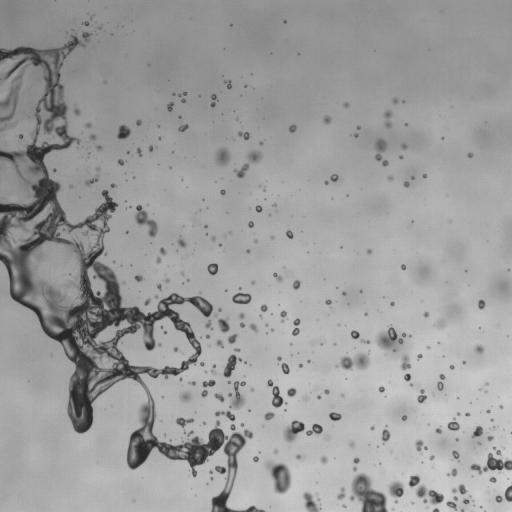droplet: (350, 473, 388, 511), (470, 447, 511, 473), (265, 461, 291, 494), (375, 326, 405, 349), (283, 420, 305, 442), (302, 492, 321, 511), (388, 481, 404, 502), (232, 287, 251, 304), (495, 483, 511, 502), (214, 148, 229, 166), (117, 125, 130, 139), (306, 424, 322, 435), (400, 355, 411, 370), (218, 318, 229, 332), (446, 496, 457, 510), (451, 484, 466, 494), (447, 418, 459, 430), (417, 389, 427, 403), (381, 427, 390, 442), (415, 440, 427, 451), (179, 391, 190, 402), (207, 263, 217, 275), (472, 426, 482, 437), (329, 412, 341, 421), (337, 487, 345, 499), (214, 393, 224, 402), (281, 363, 289, 374), (436, 319, 445, 328), (228, 334, 237, 343), (474, 344, 483, 353), (287, 387, 296, 396), (178, 237, 186, 247), (264, 412, 274, 420), (447, 468, 457, 476), (238, 132, 249, 139), (323, 115, 331, 124), (249, 323, 257, 332), (178, 124, 188, 131), (478, 299, 485, 309), (452, 450, 459, 460), (330, 174, 338, 182), (293, 280, 300, 289), (205, 320, 212, 329), (286, 230, 293, 238), (216, 339, 223, 347), (167, 102, 173, 111), (289, 125, 296, 132), (255, 205, 262, 212), (260, 304, 267, 311), (320, 456, 327, 463), (117, 159, 125, 165), (134, 275, 142, 281), (404, 373, 410, 381), (226, 80, 231, 89), (74, 108, 80, 115), (89, 134, 96, 140), (160, 248, 166, 255), (144, 298, 150, 305), (238, 312, 244, 319), (136, 148, 141, 156), (85, 122, 91, 128), (401, 143, 407, 149), (325, 299, 331, 305), (353, 457, 359, 463), (435, 428, 442, 433), (489, 477, 496, 482), (404, 181, 409, 187), (220, 189, 225, 195), (248, 221, 253, 227), (156, 257, 161, 263), (379, 386, 384, 392), (401, 415, 407, 420), (349, 441, 354, 447), (296, 454, 302, 459), (463, 498, 469, 503), (188, 381, 195, 385), (343, 102, 348, 107), (136, 120, 141, 125), (96, 145, 101, 150), (388, 175, 393, 180), (324, 389, 329, 394), (303, 395, 308, 400), (429, 455, 434, 460), (253, 456, 258, 461), (83, 21, 89, 25), (467, 153, 473, 157), (157, 284, 161, 290), (487, 436, 493, 440), (393, 98, 397, 103), (19, 134, 23, 139), (149, 146, 153, 151), (367, 249, 371, 254), (401, 264, 405, 269), (164, 278, 169, 282), (424, 312, 428, 317), (173, 347, 178, 351), (417, 354, 421, 359), (449, 365, 454, 369), (354, 133, 358, 137), (399, 155, 403, 159), (96, 167, 100, 171), (111, 183, 115, 187), (211, 236, 215, 240), (390, 302, 394, 306), (240, 323, 244, 327), (205, 334, 209, 338), (277, 356, 281, 360), (200, 362, 204, 366), (465, 412, 469, 416), (370, 426, 374, 430), (259, 142, 263, 145), (324, 180, 327, 184), (246, 249, 250, 252), (235, 348, 239, 351), (317, 395, 320, 399), (499, 405, 503, 408), (274, 449, 277, 453), (353, 467, 356, 471), (357, 126, 360, 129), (53, 169, 56, 172), (423, 174, 426, 177), (273, 203, 276, 206), (251, 281, 254, 284), (342, 292, 345, 295), (299, 364, 302, 367), (250, 388, 253, 391), (487, 410, 490, 413), (240, 423, 243, 426), (180, 272, 184, 274), (158, 137, 161, 139), (271, 236, 273, 239), (254, 240, 257, 242), (219, 243, 221, 246), (186, 279, 189, 281), (155, 295, 157, 298), (218, 308, 221, 310), (364, 313, 367, 315), (214, 314, 217, 316), (319, 342, 322, 344), (462, 361, 465, 363), (179, 378, 182, 380), (410, 383, 412, 386), (202, 422, 205, 424), (342, 505, 345, 507), (14, 123, 16, 125), (127, 151, 129, 153), (69, 185, 71, 187), (126, 230, 128, 232), (271, 328, 273, 330), (342, 394, 344, 396), (456, 438, 458, 440), (210, 471, 212, 473)
ligament: (0, 35, 265, 511), (215, 381, 246, 420), (408, 475, 444, 504), (234, 150, 262, 178), (135, 205, 157, 237), (336, 352, 370, 370), (267, 380, 285, 407), (223, 354, 241, 377), (375, 139, 388, 166), (351, 330, 369, 343), (201, 380, 215, 396), (176, 417, 194, 427), (384, 110, 392, 127), (292, 318, 300, 335), (85, 176, 98, 185), (437, 374, 444, 390), (273, 273, 282, 282), (210, 94, 216, 107), (280, 311, 286, 322), (180, 92, 186, 102), (211, 365, 216, 374), (160, 326, 166, 333), (432, 508, 439, 511), (461, 510, 464, 511)
